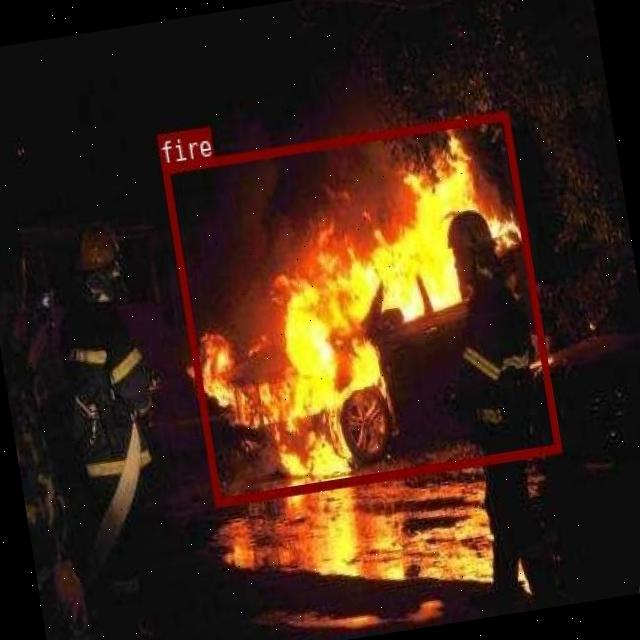fire: (162, 110, 560, 504)
